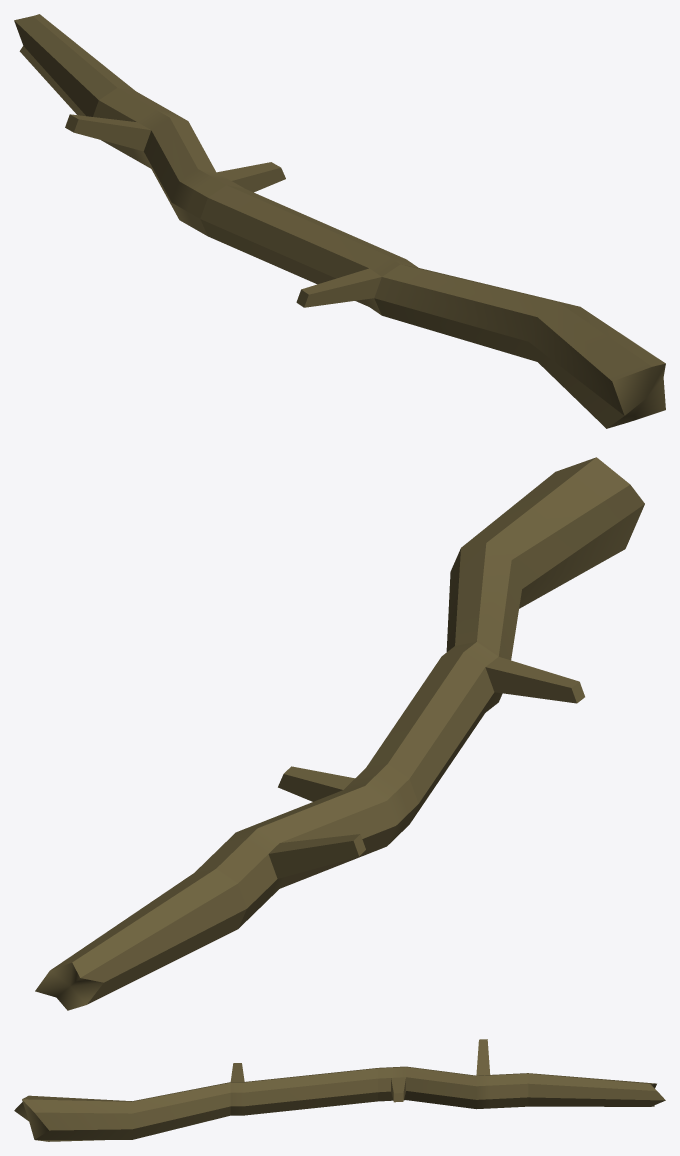
Rendered from Branch.fbx.
3 views of the same model, one above another, from view 1: azimuth 30°, elevation 25°; view 2: azimuth 150°, elevation 25°; view 3: azimuth 270°, elevation 25° (orthographic). The views are drawn at different scales.
Parts seen in each view (by area): view 1: pCylinder1; view 2: pCylinder1; view 3: pCylinder1.
Part boxes in pixels (left/top/right/bottom): pCylinder1: left=14, top=14, right=665, bottom=428; pCylinder1: left=35, top=457, right=644, bottom=1010; pCylinder1: left=14, top=1039, right=665, bottom=1141.
Size of the model in its own units: 4.79 by 1.65 by 20.1.
